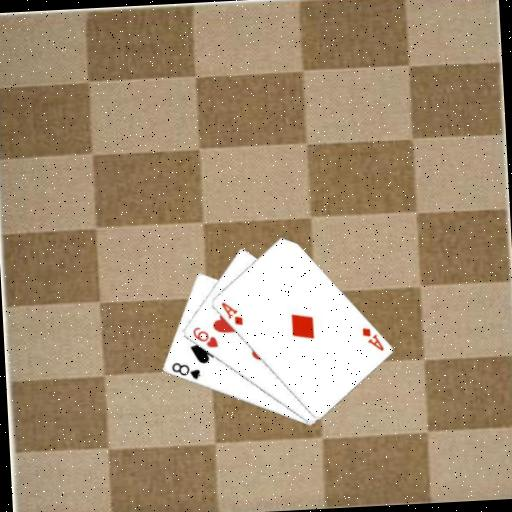6H: (189, 323, 219, 351)
8S: (168, 358, 202, 383)
AD: (218, 298, 244, 328), (359, 323, 385, 353)
